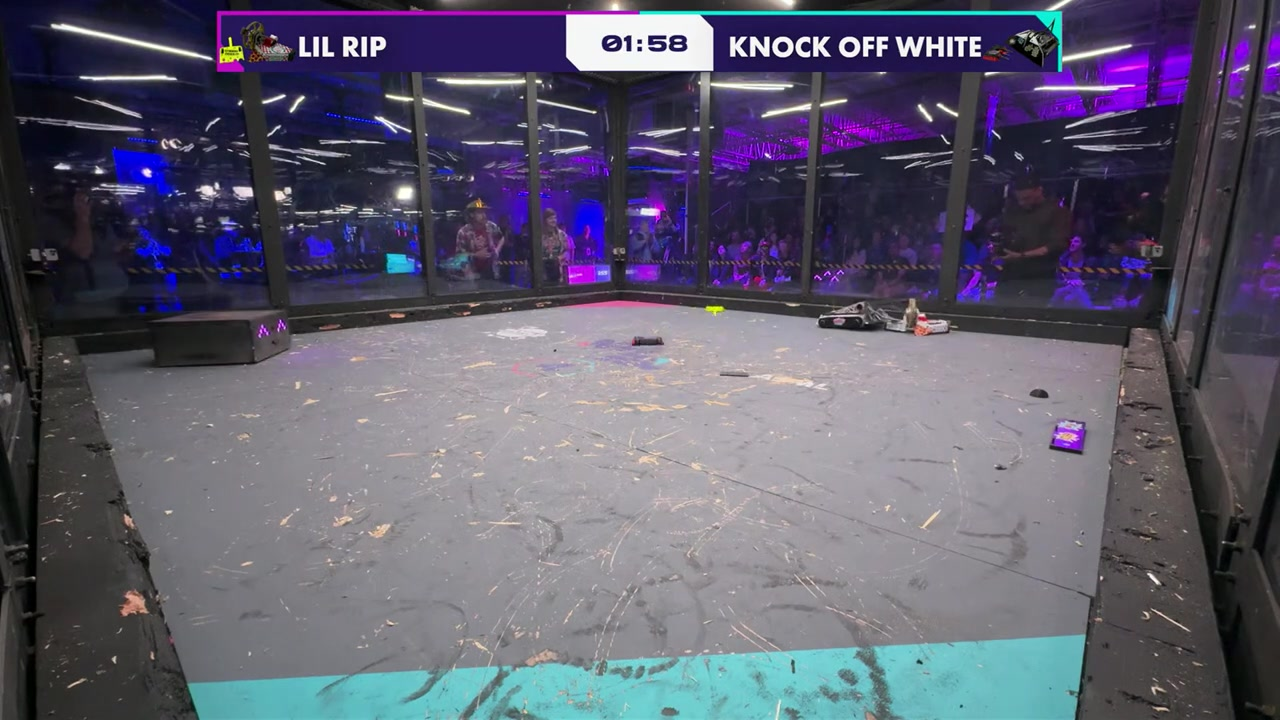combatbot: (818, 302, 884, 327), (890, 313, 950, 334)
debris: (1051, 419, 1086, 453), (633, 337, 663, 343), (706, 304, 723, 312)
housebot: (156, 311, 291, 364)
